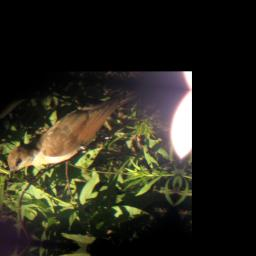Cuckoo: (4, 76, 145, 190)
